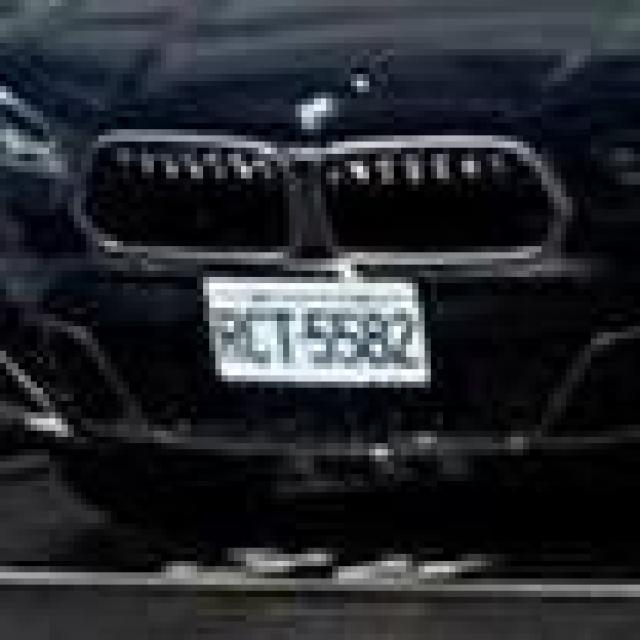W: (191, 234, 443, 418)
